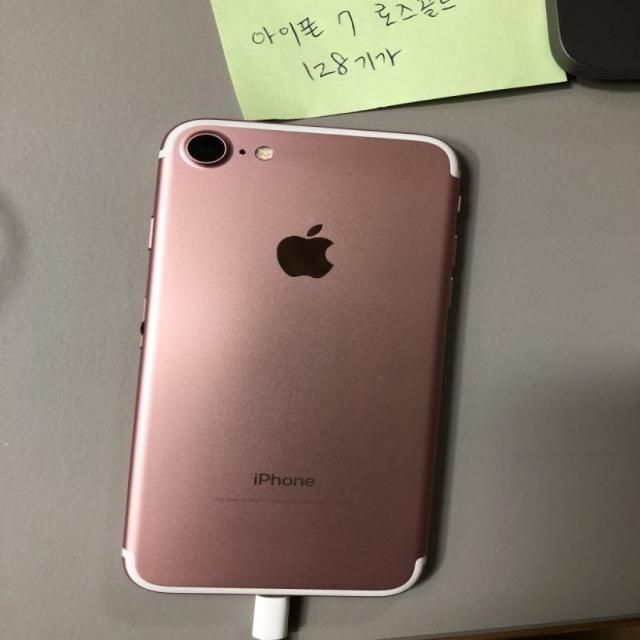lens: (179, 126, 234, 168)
phone: (125, 119, 463, 596)
